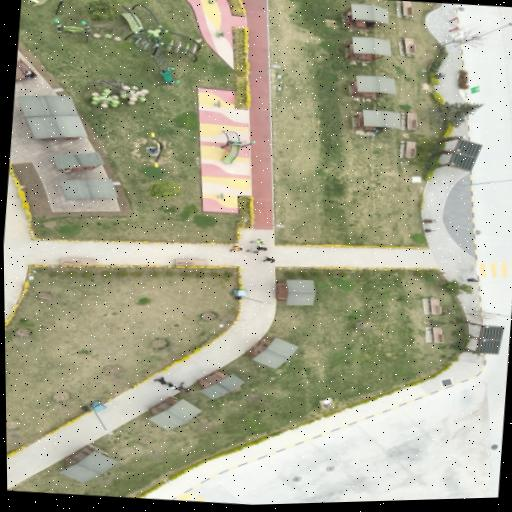person: (153, 376, 176, 388), (369, 126, 387, 134), (176, 382, 189, 392), (22, 69, 35, 77), (153, 376, 166, 383), (261, 256, 275, 262), (166, 381, 176, 389), (364, 20, 375, 27), (461, 276, 476, 281), (251, 238, 263, 243), (256, 245, 266, 250), (214, 100, 221, 107), (230, 246, 242, 250), (246, 250, 258, 253)
